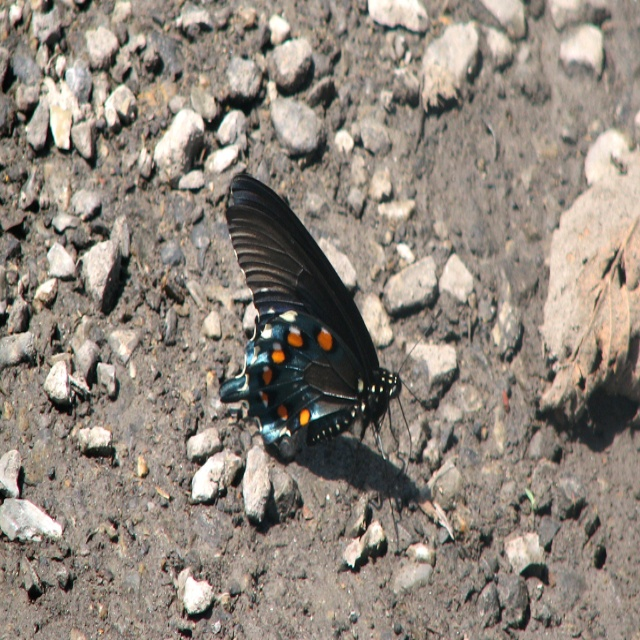Butterfly: (217, 157, 429, 489)
